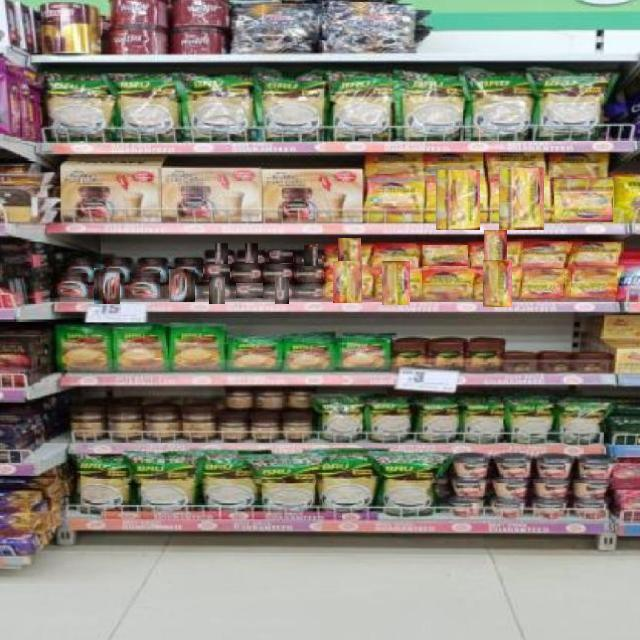Coffee: (499, 168, 544, 230), (435, 170, 480, 230), (365, 176, 423, 222), (553, 178, 613, 222), (571, 267, 617, 297), (483, 260, 512, 307), (422, 269, 469, 298), (522, 268, 565, 298), (382, 262, 410, 305), (483, 230, 507, 279), (334, 261, 362, 303), (522, 241, 568, 265), (126, 272, 162, 299), (573, 242, 617, 264), (422, 245, 468, 266), (375, 243, 416, 266), (94, 268, 120, 304), (53, 274, 88, 299), (338, 237, 361, 275), (168, 270, 195, 302), (261, 265, 295, 281), (233, 264, 264, 280), (202, 264, 230, 280), (209, 277, 225, 304), (235, 283, 263, 298), (274, 277, 289, 304), (300, 284, 324, 299), (215, 243, 228, 270), (304, 244, 318, 269), (298, 266, 323, 280), (268, 250, 293, 263), (245, 244, 258, 269)
